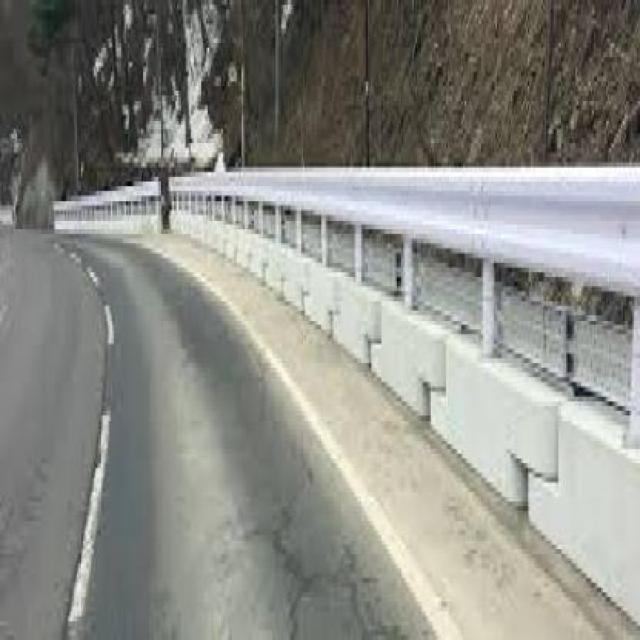Guard rail: (169, 168, 640, 468), (52, 174, 162, 235)
